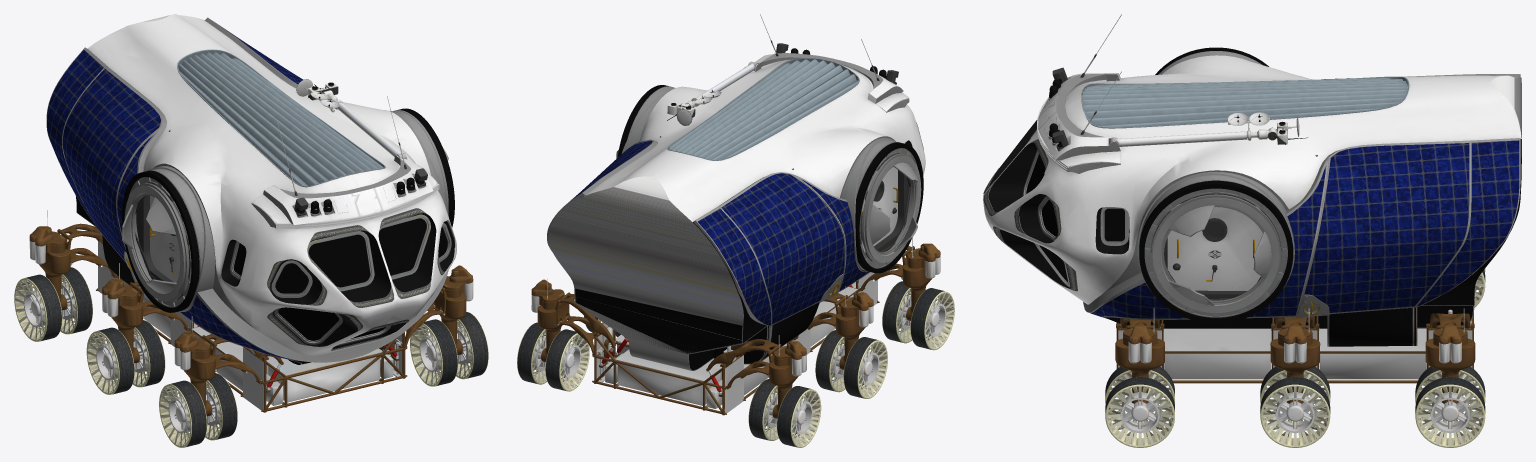
Rendered from sev.glb.
3 views of the same model, side by side, from view 1: azimuth 30°, elevation 25°; view 2: azimuth 150°, elevation 25°; view 3: azimuth 270°, elevation 25° (orthographic). The views are drawn at different scales.
Parts seen in each view (by area): view 1: MMSEV, wheel_4, wheel_0, wheel_2, wheel_5; view 2: MMSEV, wheel_1, wheel_0, wheel_4, wheel_2; view 3: MMSEV, wheel_1, wheel_3, wheel_5.
Boxes of the visible parts, x1,y1,x2,y2 form: MMSEV: (29,14,473,412); wheel_4: (159,354,260,447); wheel_0: (14,248,115,341); wheel_2: (86,301,188,394); wheel_5: (405,305,488,386); MMSEV: (531,14,940,415); wheel_1: (517,316,594,391); wheel_0: (727,361,821,447); wheel_4: (860,263,954,350); wheel_2: (795,312,887,398); MMSEV: (983,14,1521,383); wheel_1: (1415,366,1485,447); wheel_3: (1260,366,1330,447); wheel_5: (1105,366,1174,447).
Size of the model in its own units: 4.04 by 3.97 by 5.91.
1 material, 1 textured.
